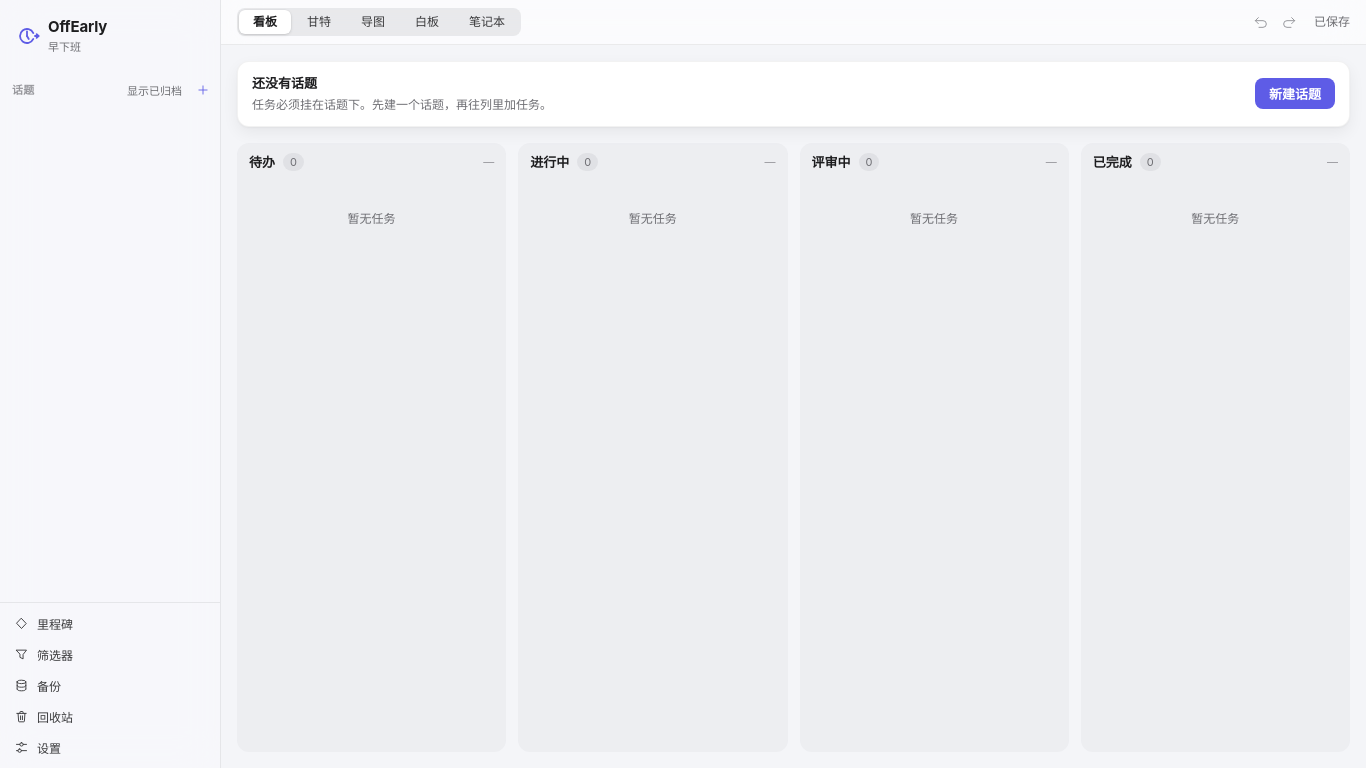
Test case: 应用外壳：新建任务与设置面板 › 无话题时列底给提示；建话题后可在列内新建任务，并随 Ctrl+S 落盘
Expected: the element with test id "board-guide" is shown, [237,61,1350,126]
#  侧栏建一个话题
Step 1. Click the button with test id "topic-add-root" → coordinates (203, 90), box [194,81,212,99]
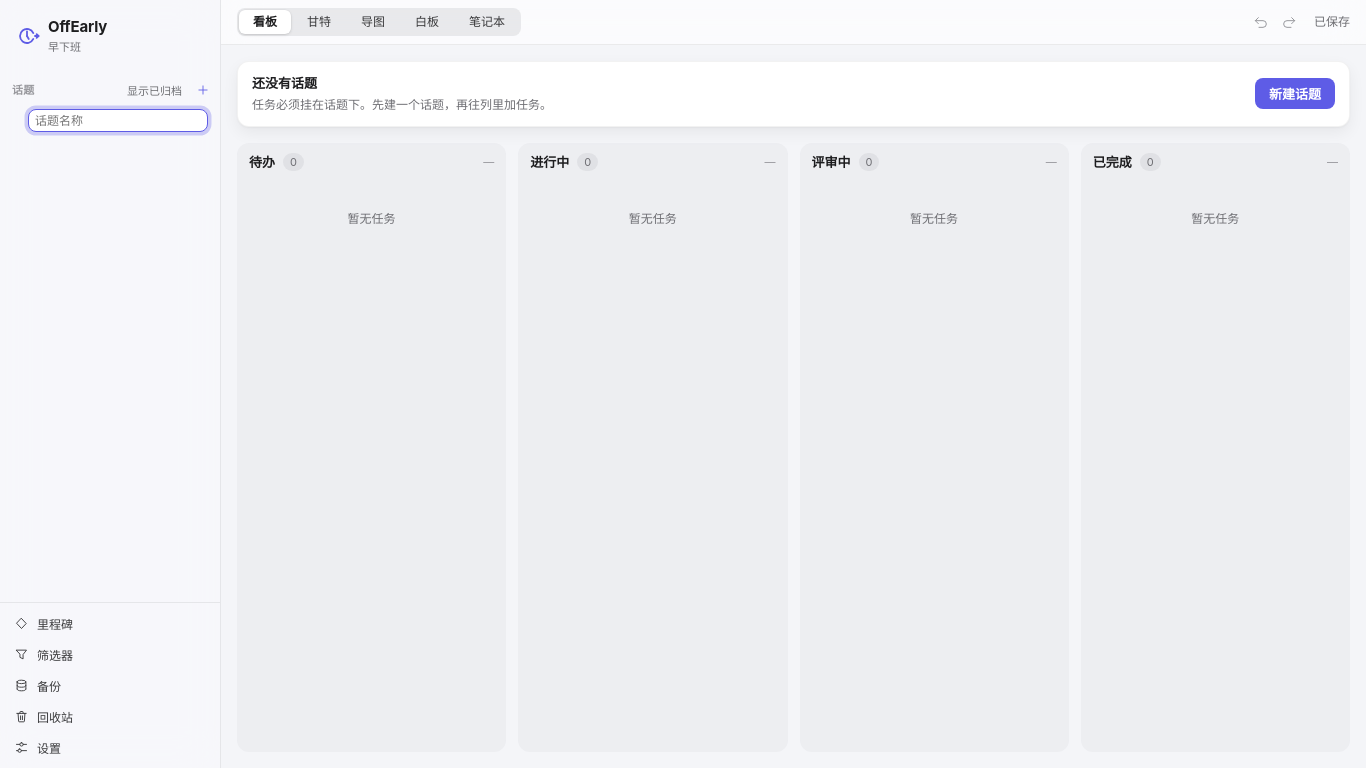
Step 2. Type "支付重构" into the field with test id "topic-name-input" → coordinates (118, 120), box [28,109,208,132]
Step 3. Press Enter in the field with test id "topic-name-input", box [28,109,208,132]
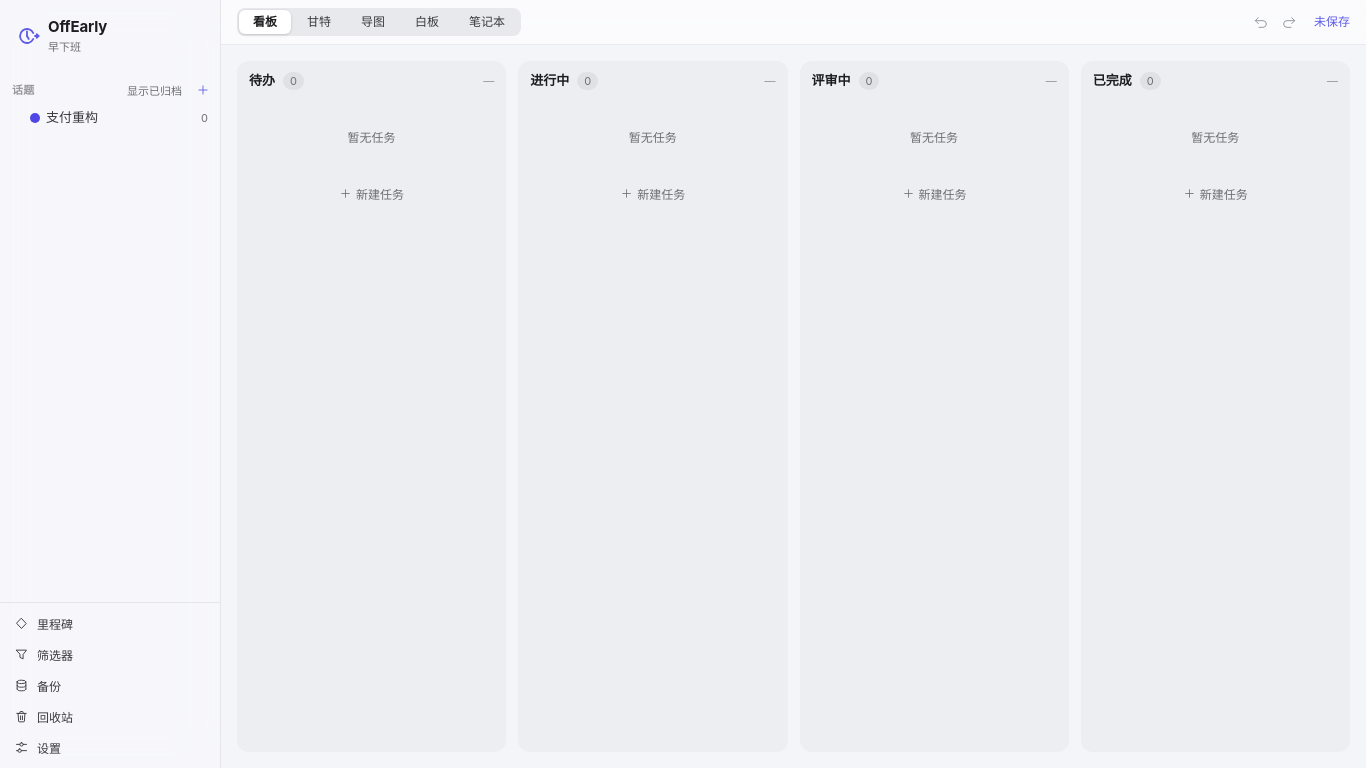
# 入口出现 → 列内新建
Step 4. Click the button with test id "board-add-task-doing" → coordinates (653, 193), box [526,178,780,208]
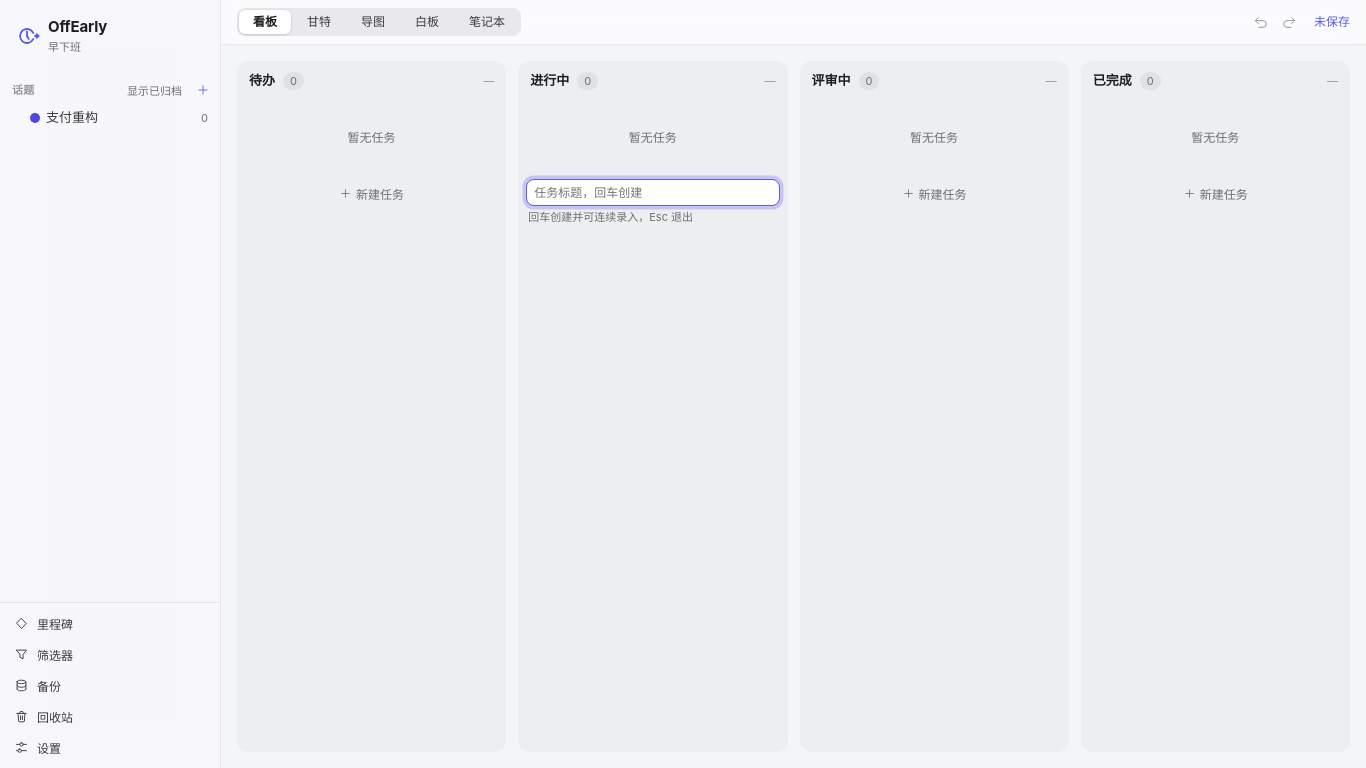
Step 5. Type "接入支付回调" into the field with test id "board-new-task-input-doing" → coordinates (653, 192), box [526,178,780,206]
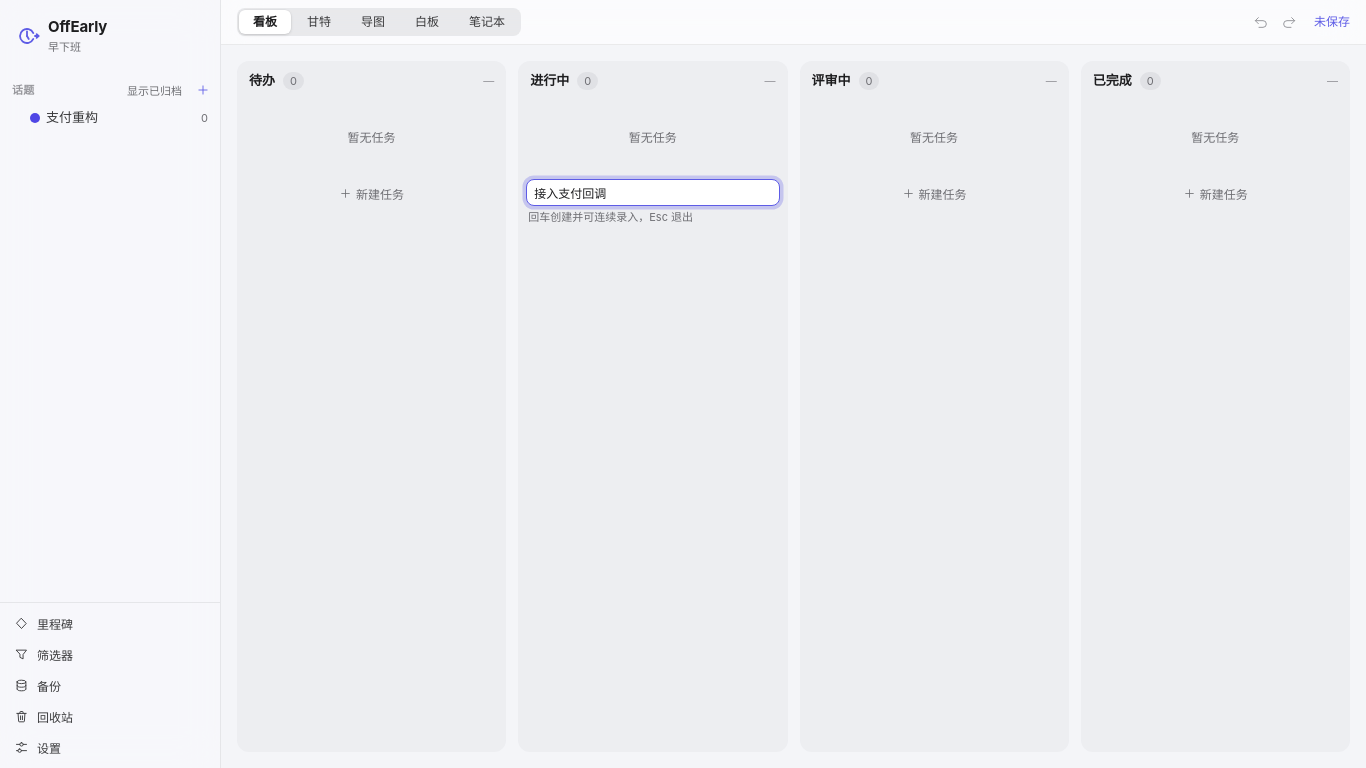
Step 6. Press Enter in the field with test id "board-new-task-input-doing", box [526,178,780,206]
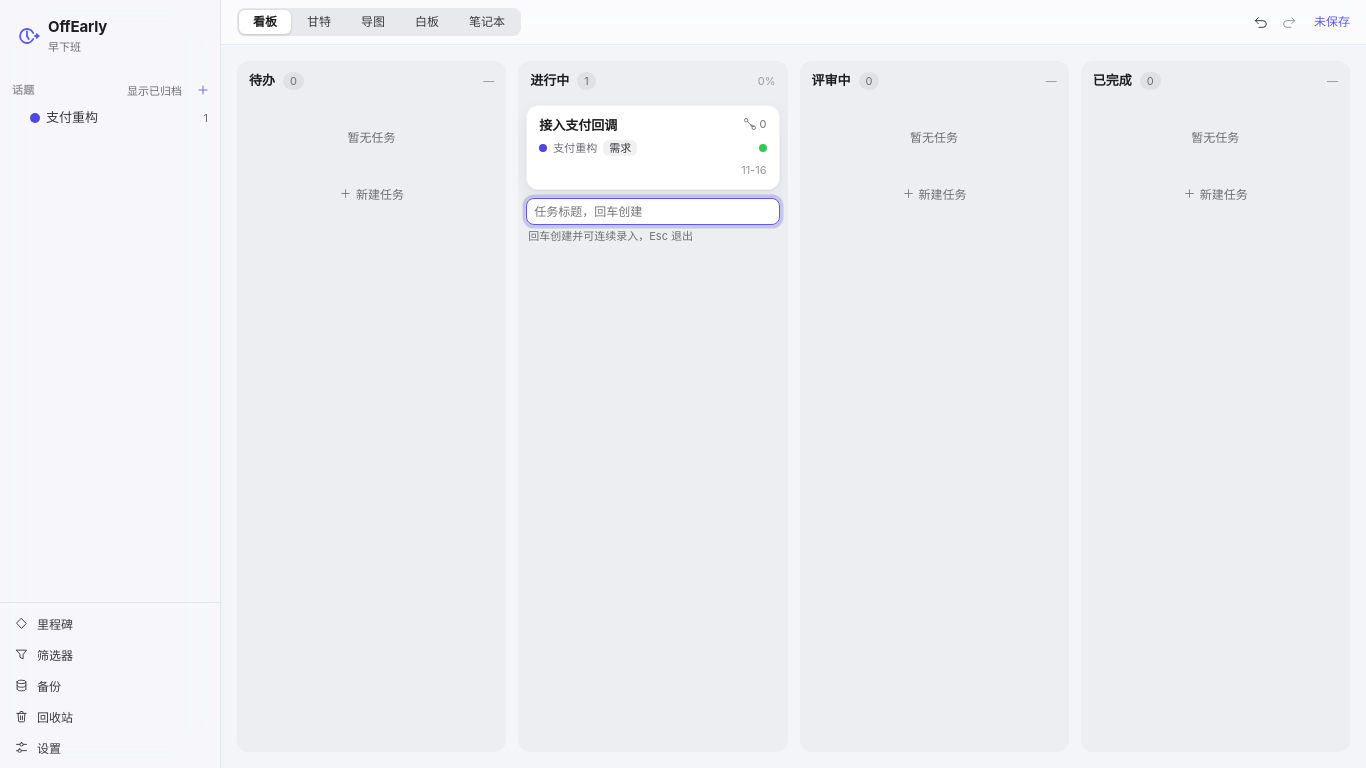
Now the text "接入支付回调" is shown, box [539,116,617,132]
Now the text with test id "board-column-count-doing" reads "1", box [584,74,589,88]
Step 7. Press s
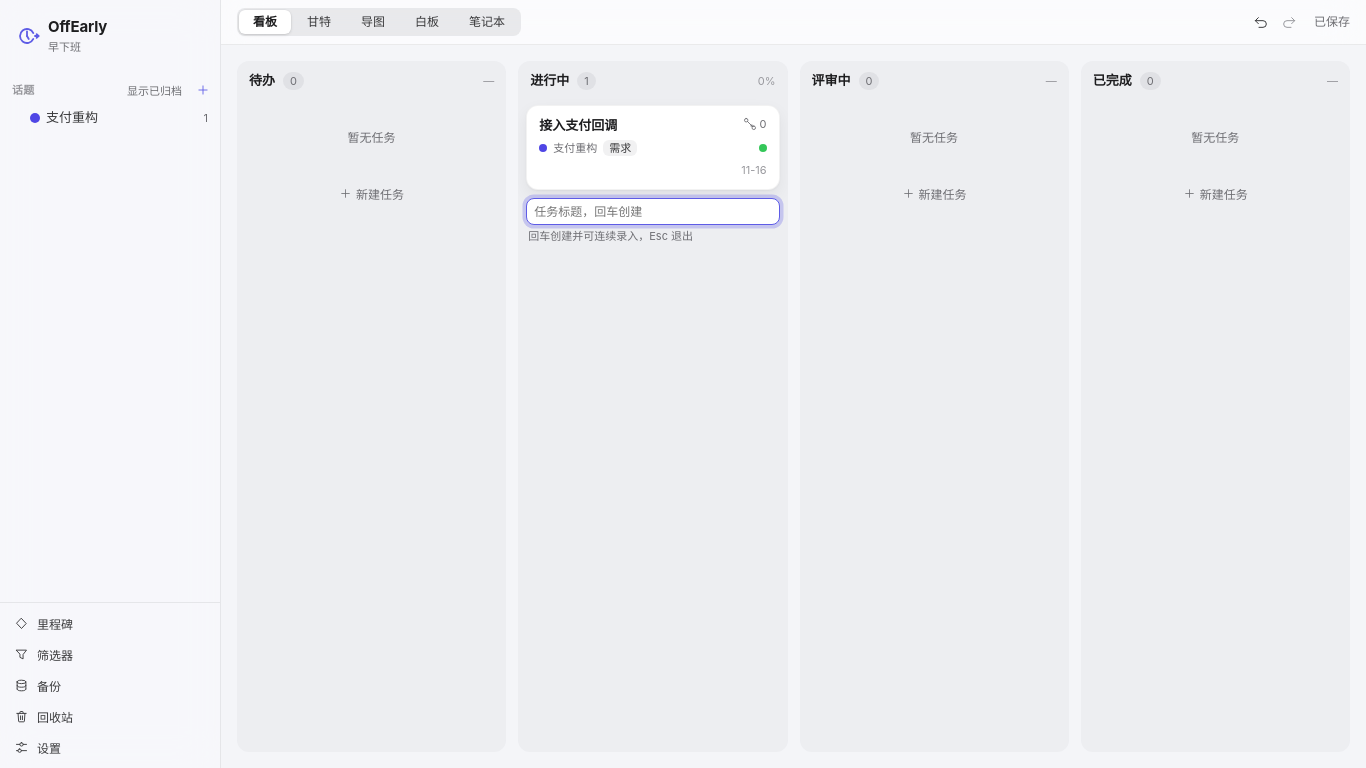
Now the text "已保存" is shown, box [1314,12,1350,32]
